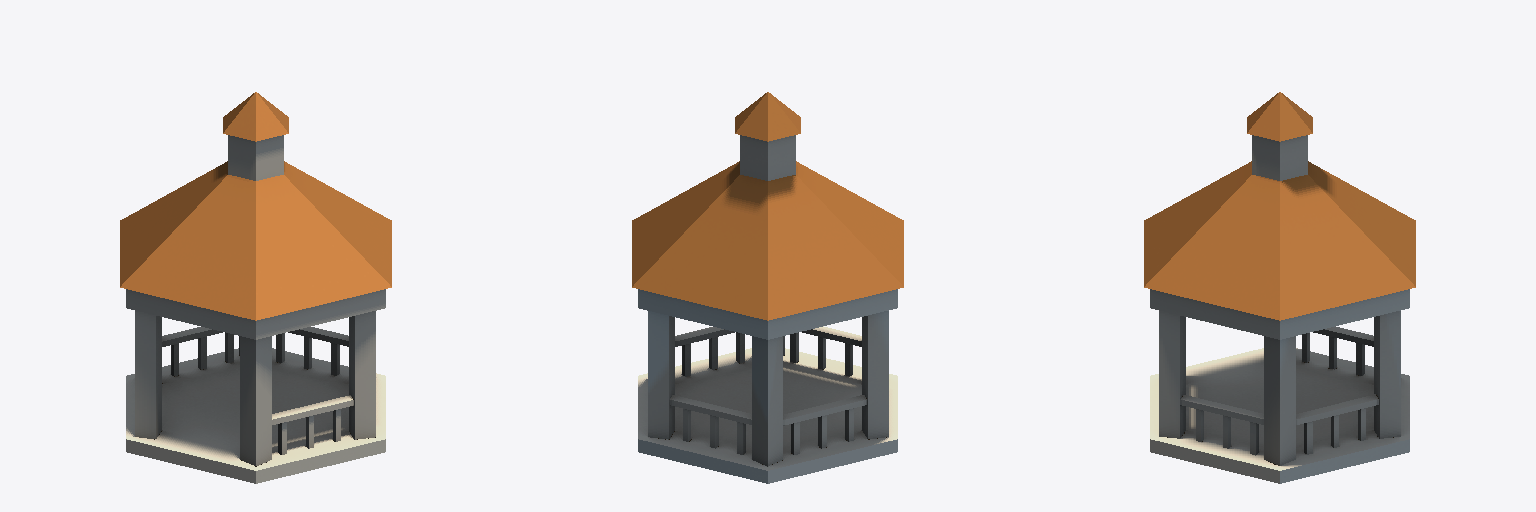
The picture shows the model from 3 angles: view 1: azimuth 30°, elevation 25°; view 2: azimuth 150°, elevation 25°; view 3: azimuth 270°, elevation 25°; orthographic projection.
Visible parts, largest first — view 1: gazebo; view 2: gazebo; view 3: gazebo.
Part boxes in pixels (x1,y1,x2,y2): gazebo: (120, 92, 391, 483); gazebo: (632, 92, 903, 483); gazebo: (1144, 92, 1415, 483).
Size of the model in its own units: 1.89 by 2.18 by 1.64.
Materials: 1 (1 with a texture image).